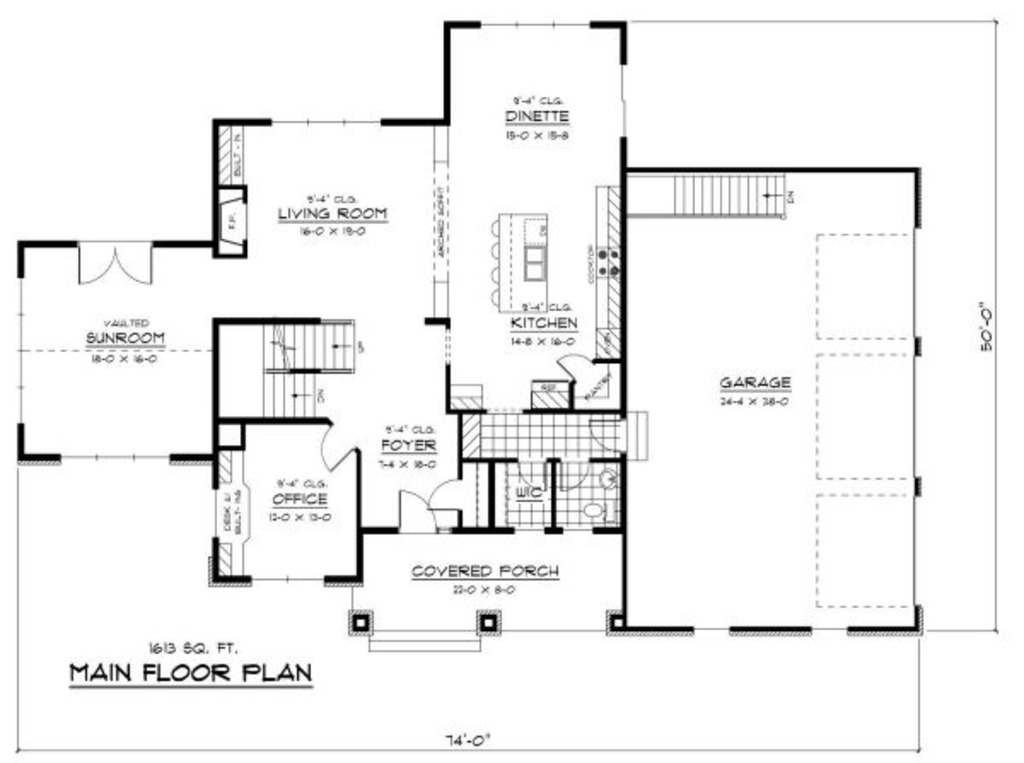door: (71, 241, 160, 288), (396, 489, 447, 535), (318, 422, 357, 472), (551, 351, 598, 379)
kitchen_bar: (485, 211, 552, 319)
large_sink: (582, 497, 620, 530)
stairs: (216, 318, 366, 423), (624, 169, 793, 226)
windows: (11, 270, 28, 434), (474, 14, 590, 35), (53, 450, 172, 468), (257, 114, 386, 130), (241, 572, 324, 589)
